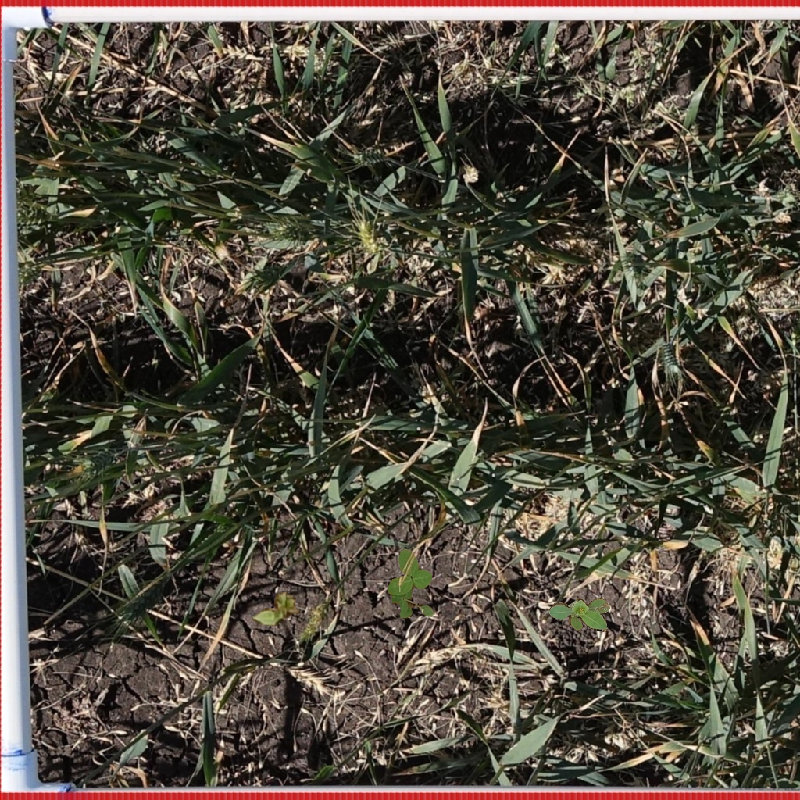spikelet: (263, 214, 314, 245), (657, 335, 683, 379), (353, 211, 378, 256)
weed: (545, 576, 621, 653), (388, 549, 435, 619), (252, 592, 300, 626)
